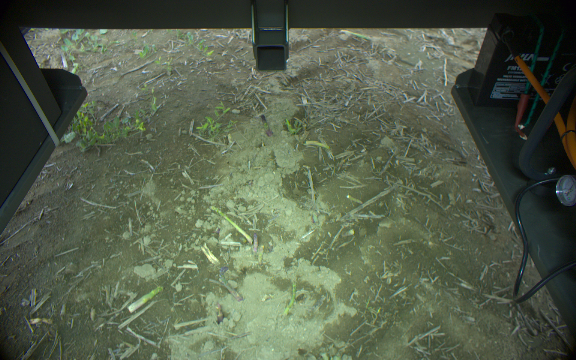aspa: (208, 204, 252, 244), (130, 285, 164, 313), (217, 265, 241, 301)
